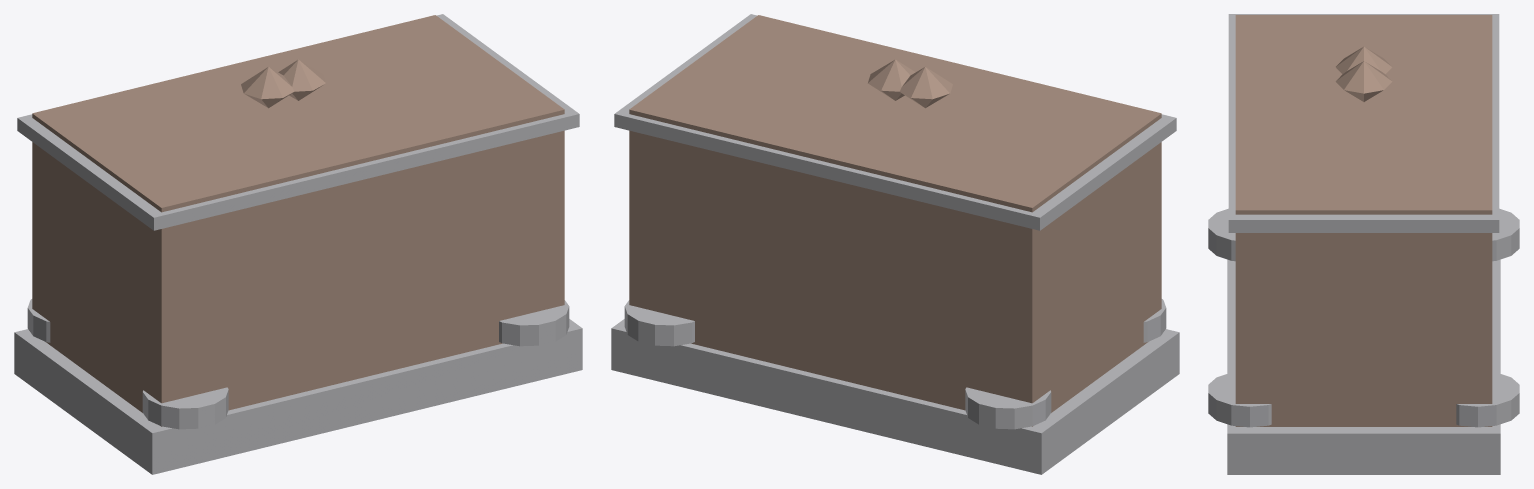
Rendered from ore_cart_rare.glb.
The picture shows the model from 3 angles, left to right: view 1: azimuth 30°, elevation 25°; view 2: azimuth 150°, elevation 25°; view 3: azimuth 270°, elevation 25°; orthographic projection.
Parts seen in each view (by area): view 1: ore_cart; view 2: ore_cart; view 3: ore_cart.
Boxes of the visible parts, <box> form: ore_cart: <box>14,14,582,474</box>; ore_cart: <box>611,14,1179,474</box>; ore_cart: <box>1208,14,1519,474</box>.
Size of the model in its own units: 1.73 by 1.2 by 1.09.
